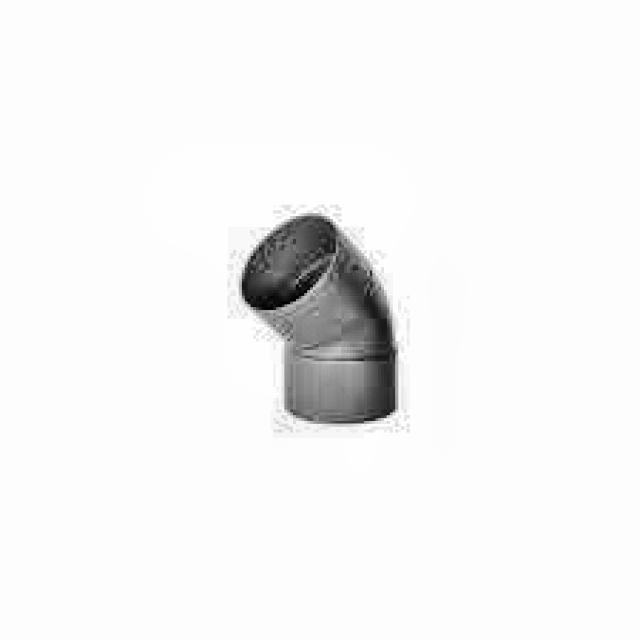ELBOW45: (239, 213, 401, 427)
